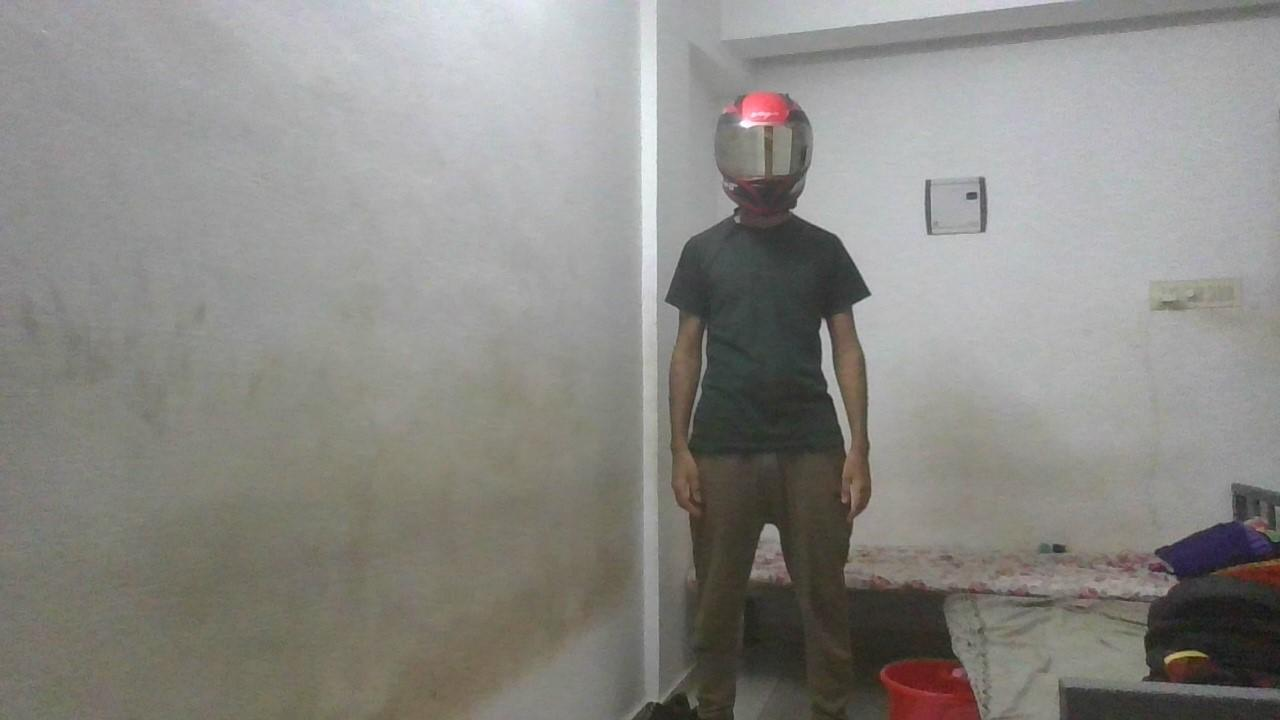helmet: (713, 90, 814, 217)
